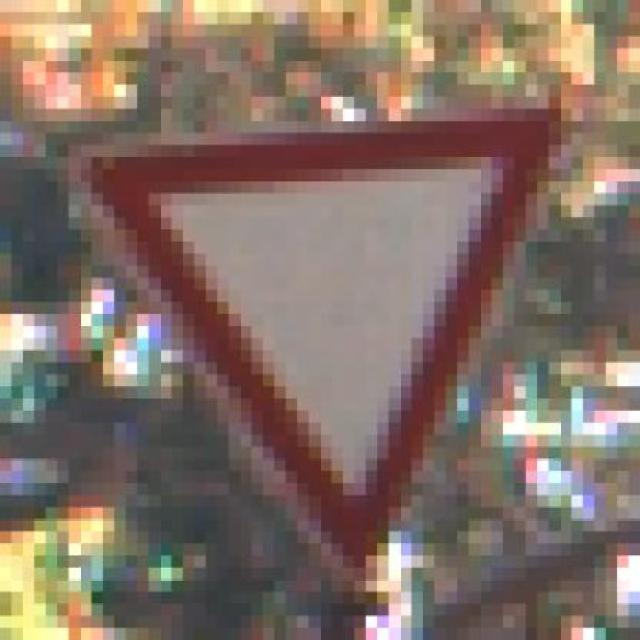Give Way: (45, 96, 606, 604)
